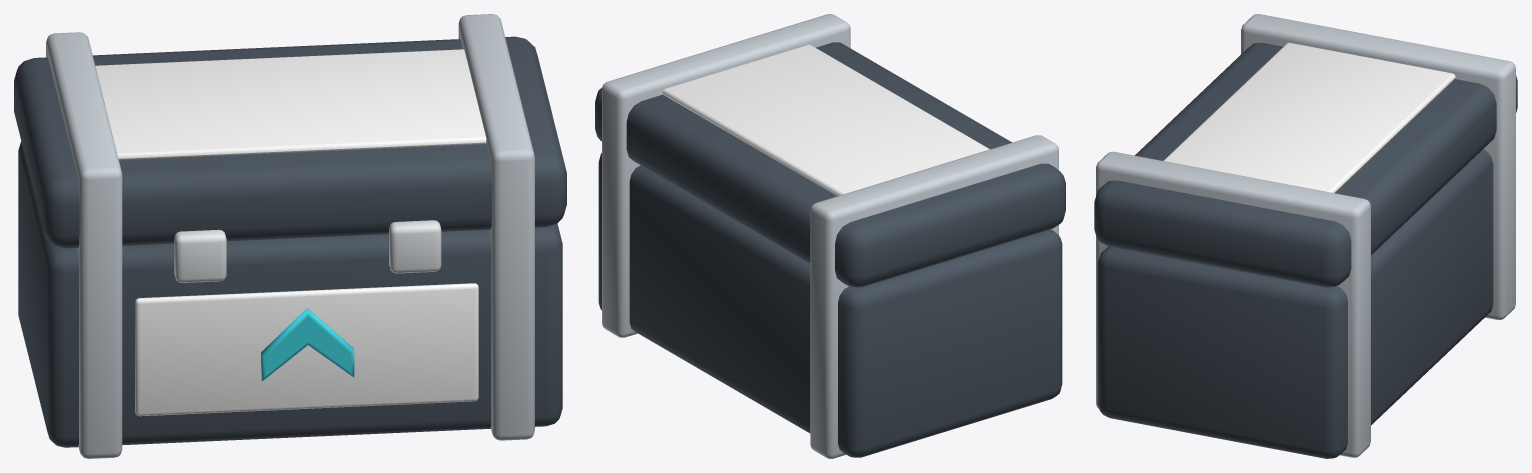
File: supply-chest.glb
The picture shows the model from 3 angles, left to right: view 1: azimuth 30°, elevation 25°; view 2: azimuth 150°, elevation 25°; view 3: azimuth 270°, elevation 25°; orthographic projection. The views are drawn at different scales.
Visible parts, largest first — view 1: titan.chest.lid, titan.chest.body, titan.chest.panel-front, titan.chest.panel-lid, titan.chest.strap.-0.48, titan.chest.strap.0.48, titan.chest.mark, titan.chest.latch.0.25, titan.chest.latch.-0.25; view 2: titan.chest.body, titan.chest.lid, titan.chest.panel-lid, titan.chest.strap.-0.48, titan.chest.strap.0.48; view 3: titan.chest.body, titan.chest.lid, titan.chest.panel-lid, titan.chest.strap.0.48, titan.chest.strap.-0.48.
Part boxes in pixels (bbox=[...]): titan.chest.lid: bbox=[14, 36, 566, 248]; titan.chest.body: bbox=[18, 141, 562, 447]; titan.chest.panel-front: bbox=[135, 283, 478, 416]; titan.chest.panel-lid: bbox=[95, 49, 486, 160]; titan.chest.strap.-0.48: bbox=[46, 32, 122, 458]; titan.chest.strap.0.48: bbox=[458, 14, 534, 440]; titan.chest.mark: bbox=[261, 308, 354, 381]; titan.chest.latch.0.25: bbox=[389, 220, 441, 273]; titan.chest.latch.-0.25: bbox=[174, 229, 226, 282]; titan.chest.body: bbox=[598, 153, 1062, 457]; titan.chest.lid: bbox=[595, 42, 1065, 287]; titan.chest.panel-lid: bbox=[662, 44, 989, 195]; titan.chest.strap.-0.48: bbox=[810, 135, 1058, 458]; titan.chest.strap.0.48: bbox=[602, 14, 850, 337]; titan.chest.body: bbox=[1098, 149, 1493, 458]; titan.chest.lid: bbox=[1094, 42, 1517, 287]; titan.chest.panel-lid: bbox=[1163, 42, 1455, 193]; titan.chest.strap.0.48: bbox=[1096, 151, 1370, 457]; titan.chest.strap.-0.48: bbox=[1241, 14, 1515, 319].
Size of the model in its own units: 1.38 by 0.74 by 1.14.
